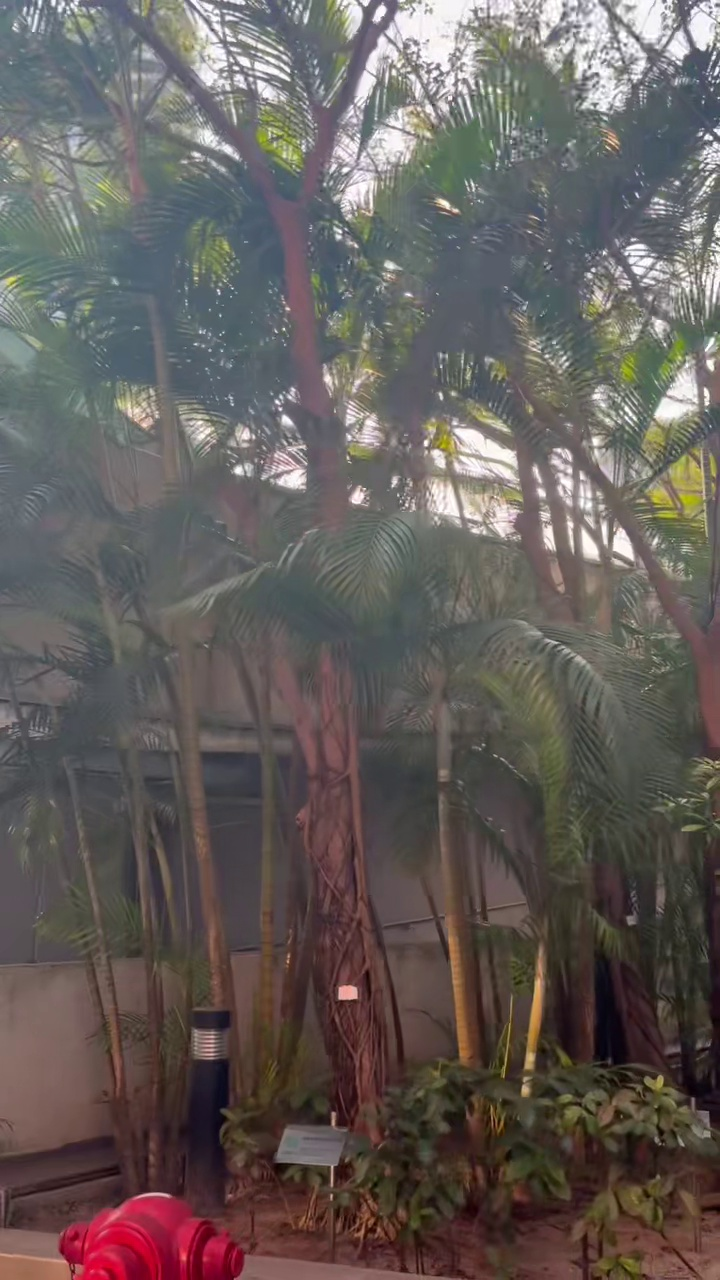Ficus benjamina: (99, 0, 409, 1119)
